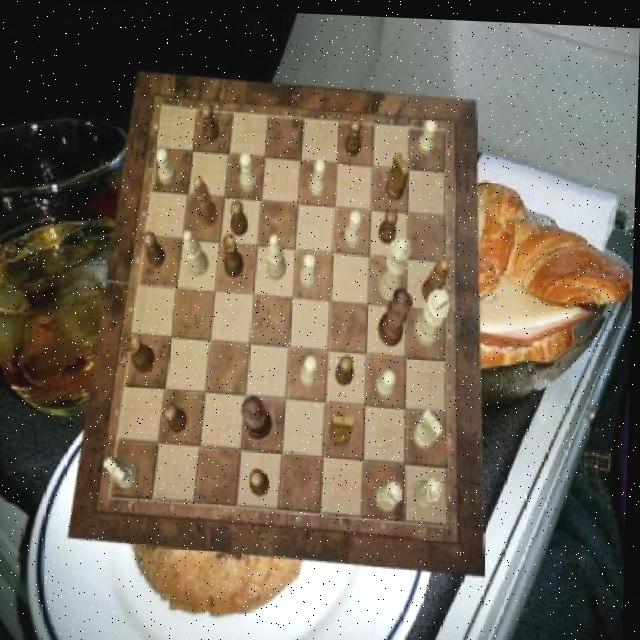bishop: (195, 174, 221, 226), (424, 253, 452, 300)
black-bishop: (244, 394, 276, 437)
black-king: (387, 148, 411, 197), (333, 409, 359, 444)
black-knight: (145, 230, 169, 267), (201, 101, 221, 142), (346, 114, 364, 153), (167, 402, 191, 431), (381, 206, 399, 243), (232, 198, 250, 234), (252, 466, 272, 495), (338, 352, 356, 384)
black-pawn: (380, 285, 414, 346)
black-queen: (127, 334, 158, 373), (223, 233, 247, 277)
black-rook: (184, 228, 212, 275), (268, 231, 289, 278)
white-bishop: (416, 284, 452, 344)
white-king: (414, 406, 445, 447), (106, 455, 143, 487)
white-knight: (157, 146, 178, 184), (241, 150, 259, 189), (419, 113, 437, 152), (301, 249, 319, 285), (345, 208, 363, 244), (311, 156, 328, 194), (302, 352, 320, 385), (379, 366, 399, 394)
white-pawn: (379, 232, 414, 298)
white-queen: (418, 473, 446, 507), (380, 477, 406, 509)
